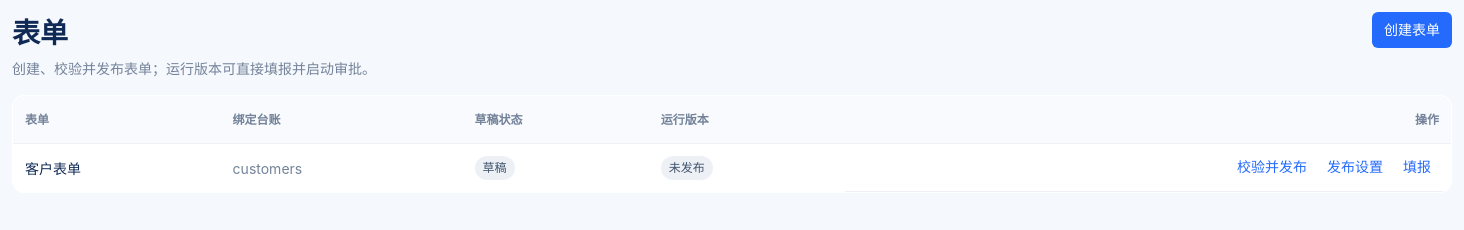
Scenario: T3-F basic form publish › validates, publishes, and refreshes the list with Running v1
Click the button with test id "form-quick-publish" at (1272, 168), box [1229, 156, 1315, 179]
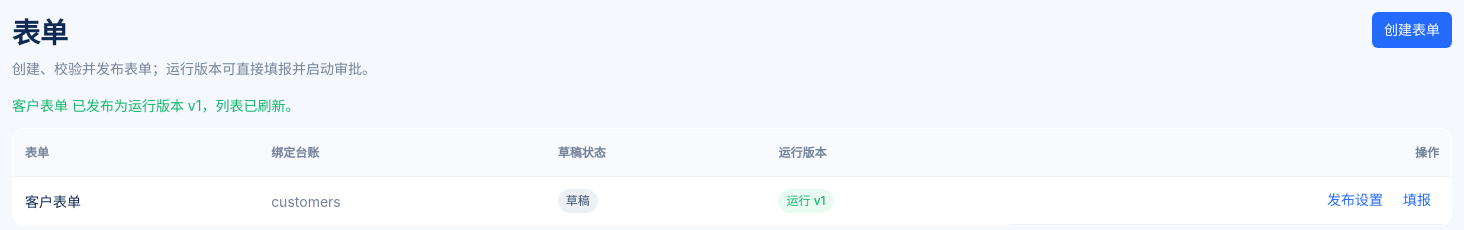
Result: the text "运行 v1" is shown at [778, 189, 834, 213]
Result: the text "列表已刷新" is shown at [12, 97, 299, 114]
